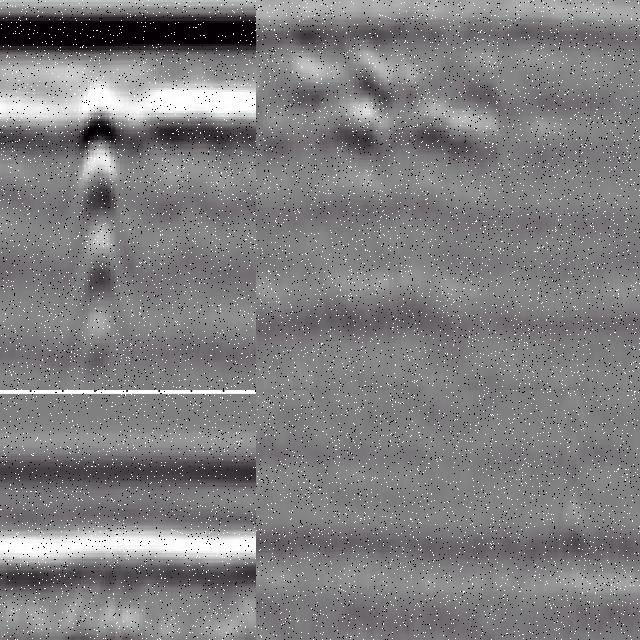crack: (70, 82, 123, 391), (552, 391, 591, 573)
loose: (257, 18, 510, 168)
